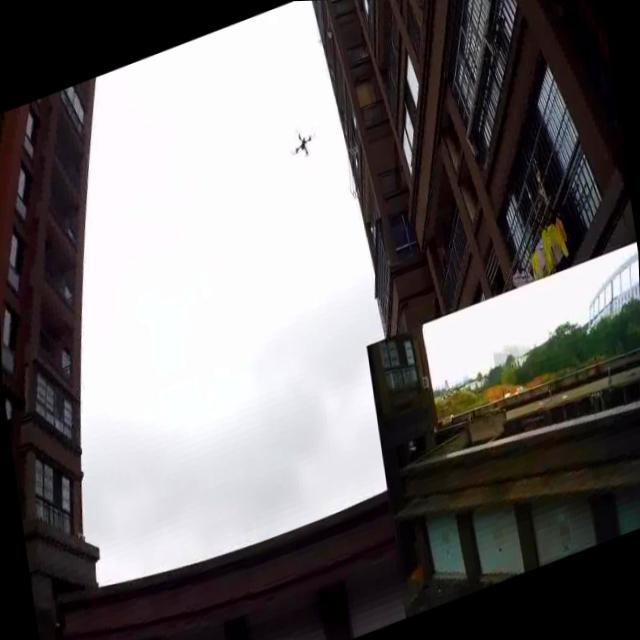drone: (285, 120, 321, 169)
